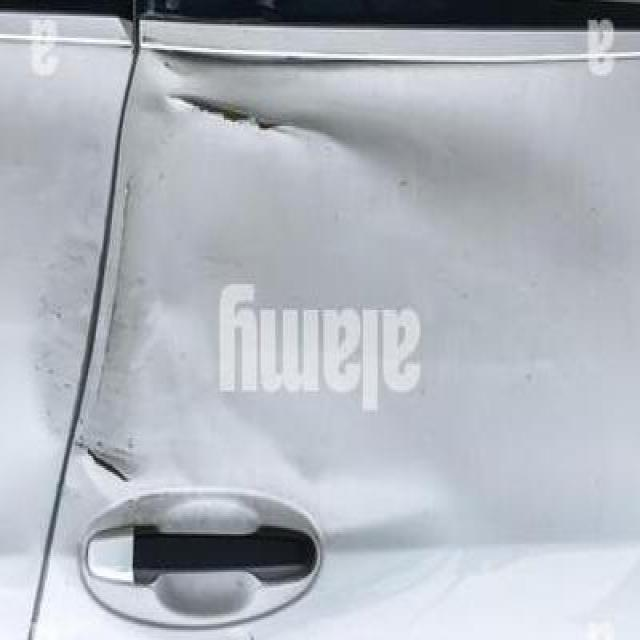dent: (155, 78, 336, 164), (76, 428, 134, 498)
